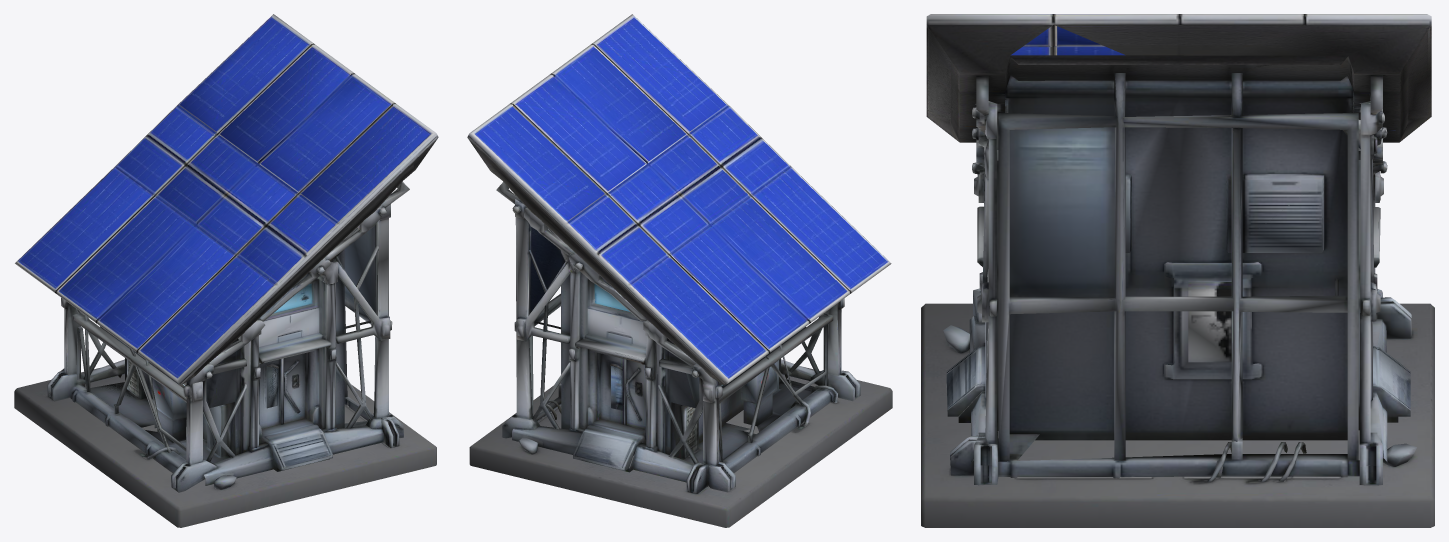
File: selected.glb
3 renders of one model, left to right at view 1: azimuth 30°, elevation 25°; view 2: azimuth 150°, elevation 25°; view 3: azimuth 270°, elevation 25°, orthographic. The views are drawn at different scales.
Parts seen in each view (by area): view 1: tripo_node_58b41020-26aa-4fab-82f7-2071f9adfec8; view 2: tripo_node_58b41020-26aa-4fab-82f7-2071f9adfec8; view 3: tripo_node_58b41020-26aa-4fab-82f7-2071f9adfec8.
Boxes of the visible parts, x1,y1,x2,y2 form: tripo_node_58b41020-26aa-4fab-82f7-2071f9adfec8: [14, 14, 438, 527]; tripo_node_58b41020-26aa-4fab-82f7-2071f9adfec8: [467, 14, 892, 527]; tripo_node_58b41020-26aa-4fab-82f7-2071f9adfec8: [921, 14, 1434, 527].
Bounding box in the file's own units: 0.8262 × 0.998 × 0.9082.
Materials: 1 (1 with a texture image).
